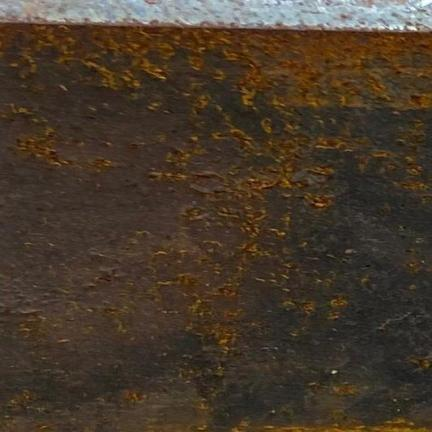karat: (0, 25, 431, 431)
